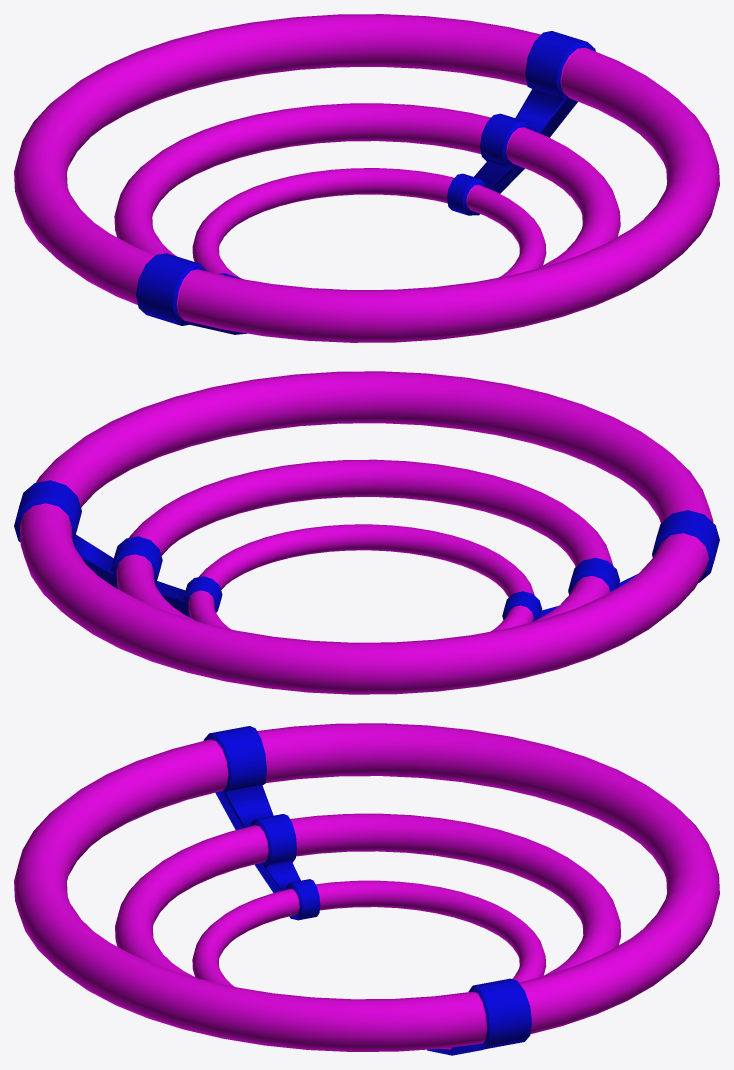
File: inner_copper_rings.glb
3 views of the same model, one above another, from view 1: azimuth 30°, elevation 25°; view 2: azimuth 150°, elevation 25°; view 3: azimuth 270°, elevation 25° (orthographic).
Parts seen in each view (by area): view 1: arc_reactor_mk1_inner_copper; view 2: arc_reactor_mk1_inner_copper; view 3: arc_reactor_mk1_inner_copper.
Part boxes in pixels (box(x1,y1,x2,y2)): arc_reactor_mk1_inner_copper: box(14, 14, 719, 342); arc_reactor_mk1_inner_copper: box(14, 371, 719, 694); arc_reactor_mk1_inner_copper: box(14, 723, 719, 1055).
Size of the model in its own units: 1.14 by 0.2201 by 1.14.
